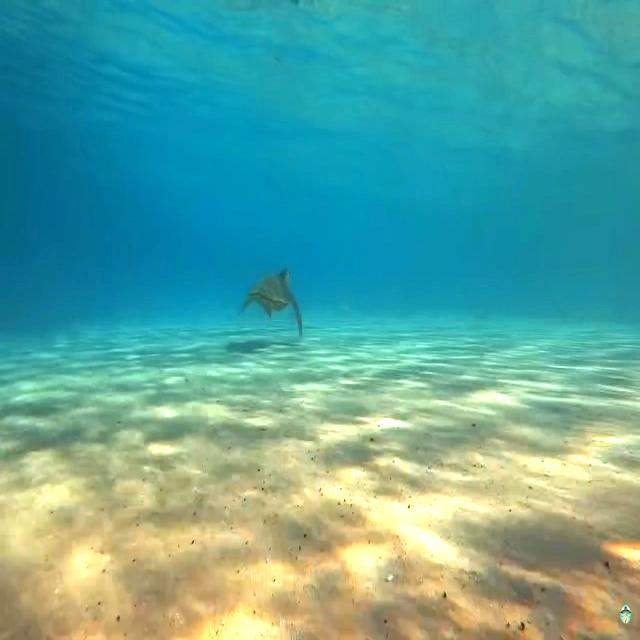Sea turtle: (242, 262, 304, 342)
